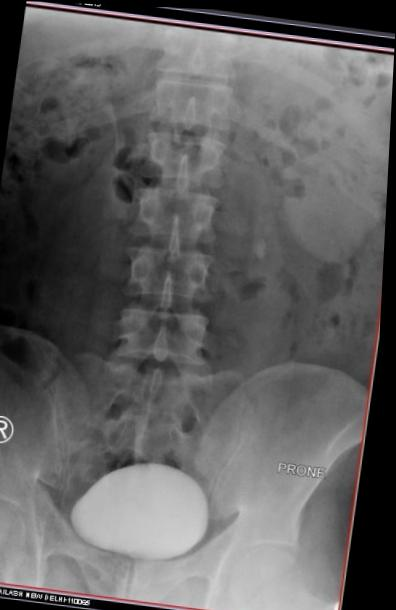bladder: (62, 444, 244, 579)
left kidney: (264, 52, 393, 267)
right kidney: (20, 14, 148, 198)
vertebrae: (143, 110, 243, 179)
